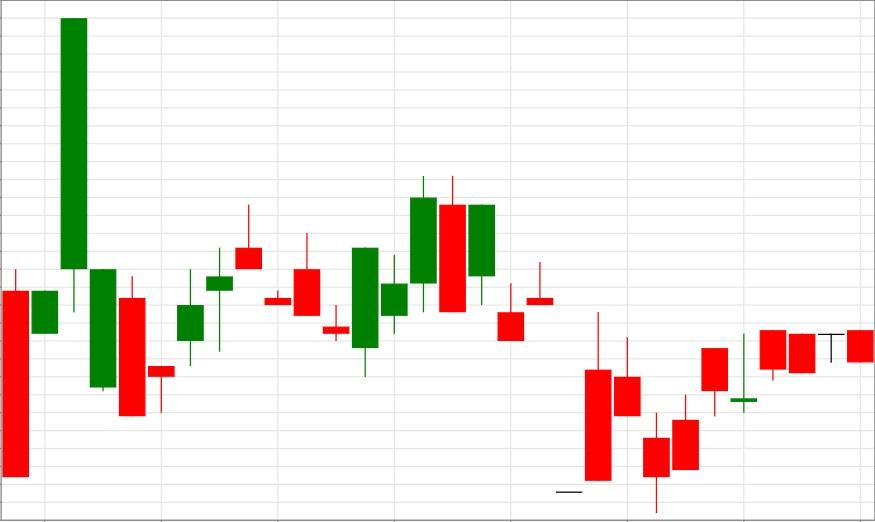shooting_star_fall: (118, 204, 263, 417)
